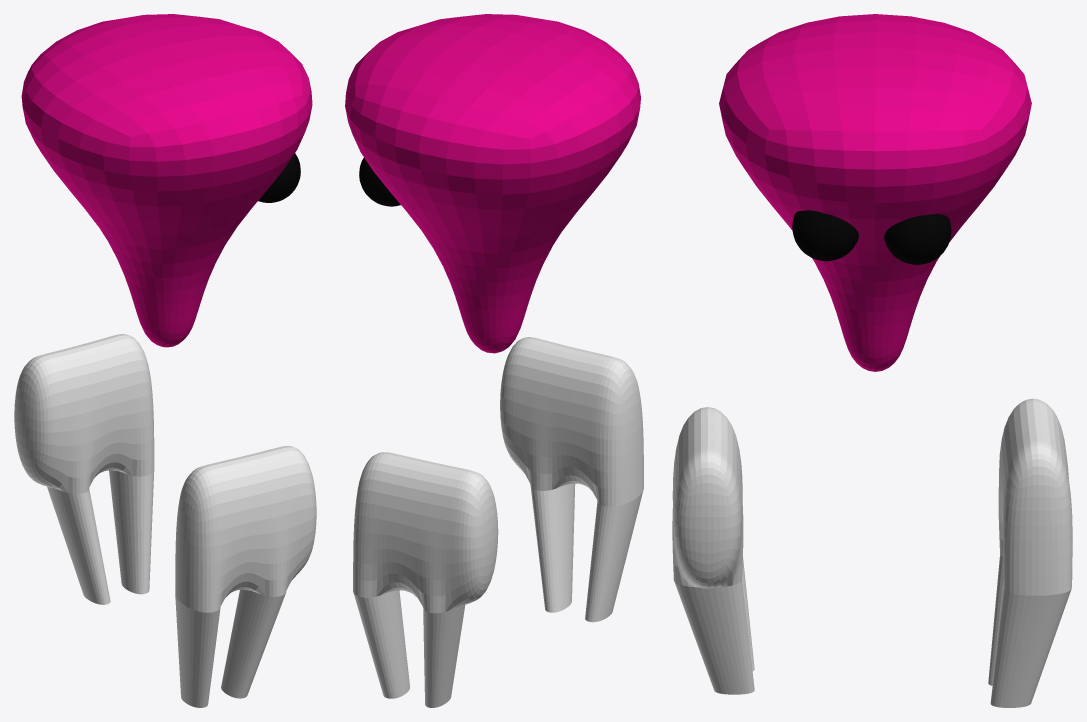
Rendered from vorogg.glb.
The picture shows the model from 3 angles, left to right: view 1: azimuth 30°, elevation 25°; view 2: azimuth 150°, elevation 25°; view 3: azimuth 270°, elevation 25°; orthographic projection. The views are drawn at different scales.
Visible parts, largest first — view 1: Куб, Куб.002, Куб.001, Сфера.001; view 2: Куб, Куб.001, Куб.002, Сфера; view 3: Куб, Куб.002, Куб.001, Сфера, Сфера.001.
Part boxes in pixels (box(x1,y1,x2,y2)): Куб: box(21, 14, 312, 347); Куб.002: box(14, 334, 154, 604); Куб.001: box(175, 446, 316, 707); Сфера.001: box(258, 153, 300, 202); Куб: box(345, 14, 640, 353); Куб.001: box(500, 337, 643, 622); Куб.002: box(353, 452, 498, 707); Сфера: box(359, 158, 400, 206); Куб: box(719, 14, 1031, 371); Куб.002: box(988, 398, 1072, 707); Куб.001: box(672, 407, 754, 694); Сфера: box(884, 214, 951, 264); Сфера.001: box(792, 210, 858, 261).
Size of the model in its own units: 7.87 by 17.8 by 10.06.
